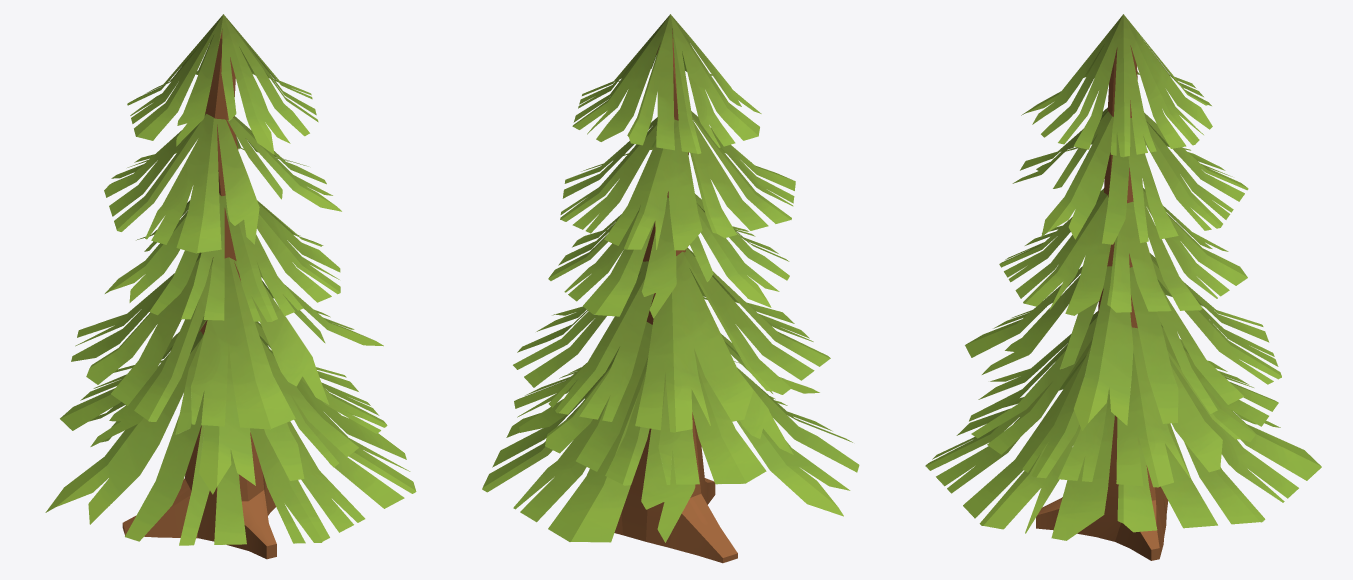
File: pine-tree-flat.fbx
3 renders of one model, left to right at view 1: azimuth 30°, elevation 25°; view 2: azimuth 150°, elevation 25°; view 3: azimuth 270°, elevation 25°, orthographic.
Parts seen in each view (by area): view 1: Rock03:Rock03:polySurface10; view 2: Rock03:Rock03:polySurface10; view 3: Rock03:Rock03:polySurface10.
Part boxes in pixels (<box>): Rock03:Rock03:polySurface10: <box>45,14,416,559</box>; Rock03:Rock03:polySurface10: <box>482,14,859,563</box>; Rock03:Rock03:polySurface10: <box>925,14,1321,560</box>.
Size of the model in its own units: 4.87 by 6.36 by 4.87.
Materials: 2 (2 with a texture image).
